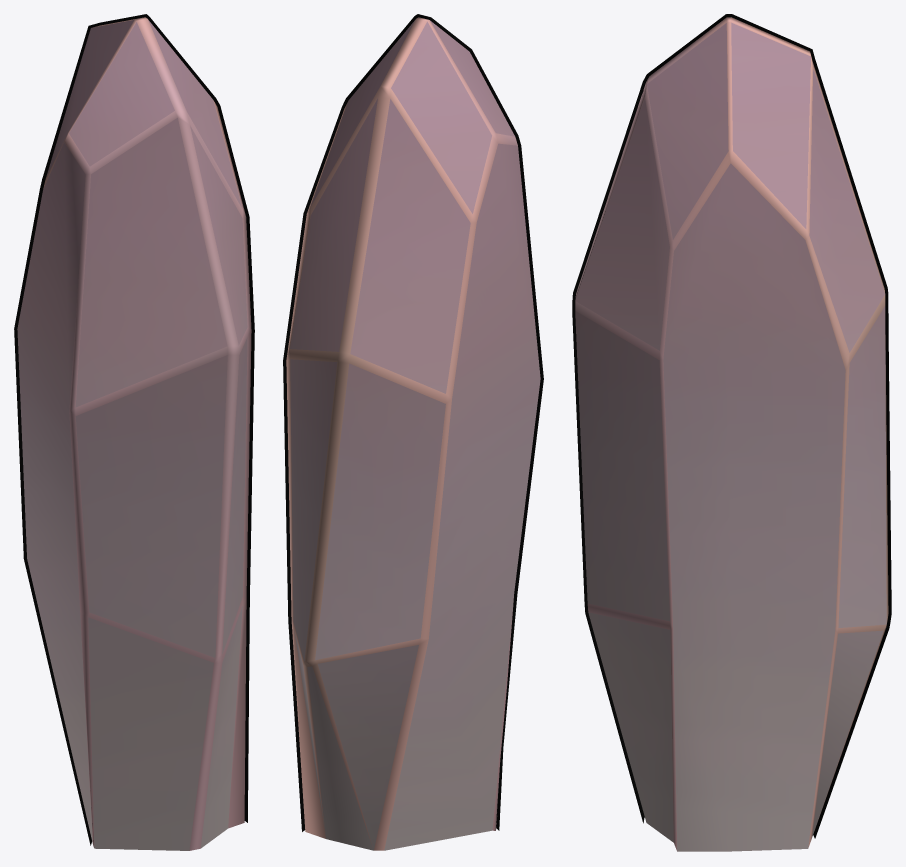
Rendered from Crystal_Small_01.glb.
3 views of the same model, side by side, from view 1: azimuth 30°, elevation 25°; view 2: azimuth 150°, elevation 25°; view 3: azimuth 270°, elevation 25° (orthographic).
Parts seen in each view (by area): view 1: Crystal_Small_01; view 2: Crystal_Small_01; view 3: Crystal_Small_01.
Boxes of the visible parts, bbox=[...] form: Crystal_Small_01: bbox=[14, 14, 254, 850]; Crystal_Small_01: bbox=[283, 14, 543, 850]; Crystal_Small_01: bbox=[572, 14, 891, 851].
Size of the model in its own units: 1.09 by 4.74 by 1.72.
Materials: 2 (1 with a texture image).
